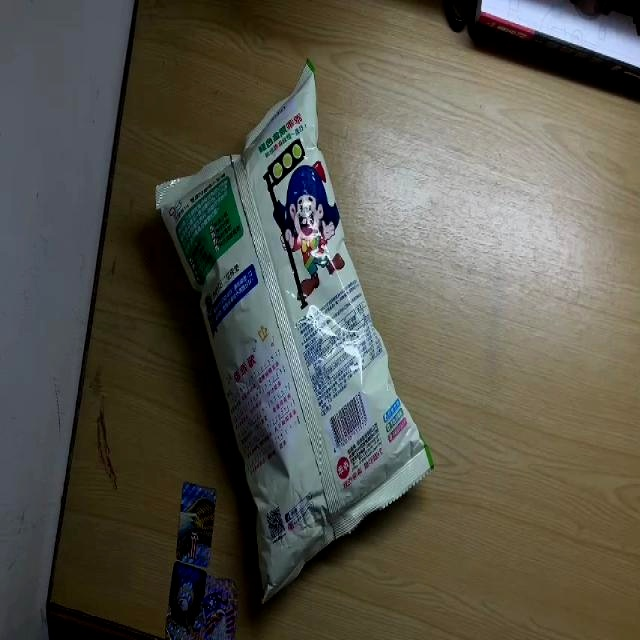Good-Luck: (154, 61, 434, 608)
